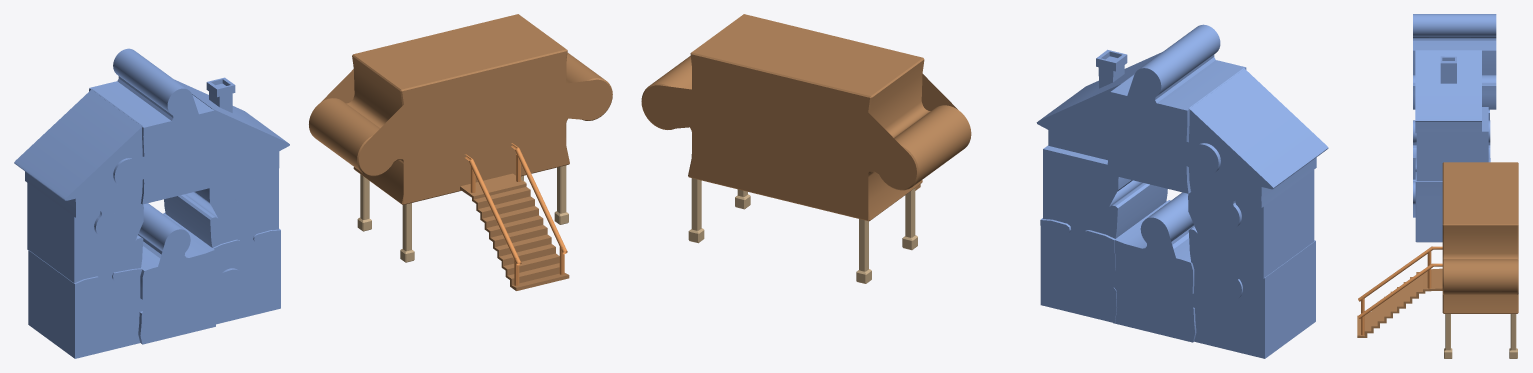
File: LastTwoHouses.fbx
The picture shows the model from 3 angles, left to right: view 1: azimuth 30°, elevation 25°; view 2: azimuth 150°, elevation 25°; view 3: azimuth 270°, elevation 25°; orthographic projection. The views are drawn at different scales.
Parts seen in each view (by area): view 1: Cube.032, Cube.031, Cube.025, Cube.028, Cube.026, Cube.029, Cube.034, Cube.016, Cube.030, Cube.027, Cube.033, Circle.006; view 2: Cube.032, Cube.031, Cube.025, Cube.028, Cube.029, Cube.026, Cube.030, Cube.027, Cube.016, Cube.033; view 3: Cube.032, Cube.016, Cube.031, Cube.030, Cube.027, Cube.034, Circle.006, Cube.033, Cube.028.
Boxes of the visible parts, x1,y1,x2,y2 form: Cube.032: (309, 14, 612, 204); Cube.031: (89, 48, 216, 204); Cube.025: (14, 89, 142, 237); Cube.028: (138, 203, 244, 344); Cube.026: (28, 250, 147, 358); Cube.029: (27, 183, 143, 283); Cube.034: (460, 173, 569, 290); Cube.016: (174, 77, 289, 203); Cube.030: (164, 168, 278, 247); Cube.027: (164, 213, 280, 324); Cube.033: (357, 165, 568, 262); Circle.006: (465, 143, 567, 285); Cube.032: (641, 14, 971, 221); Cube.031: (1107, 24, 1246, 193); Cube.025: (1188, 68, 1328, 229); Cube.028: (1094, 192, 1196, 342); Cube.029: (1188, 170, 1314, 300); Cube.026: (1187, 240, 1315, 358); Cube.030: (1043, 145, 1167, 238); Cube.027: (1040, 201, 1166, 322); Cube.016: (1036, 49, 1161, 160); Cube.033: (688, 178, 917, 283); Cube.032: (1442, 162, 1518, 313); Cube.016: (1415, 50, 1481, 142); Cube.031: (1413, 14, 1496, 109); Cube.030: (1416, 107, 1488, 181); Cube.027: (1415, 158, 1490, 242); Cube.034: (1357, 268, 1442, 337); Circle.006: (1358, 246, 1442, 335); Cube.033: (1444, 314, 1517, 358); Cube.028: (1413, 120, 1490, 217).
Size of the model in its own units: 4248 by 1784 by 1365.
